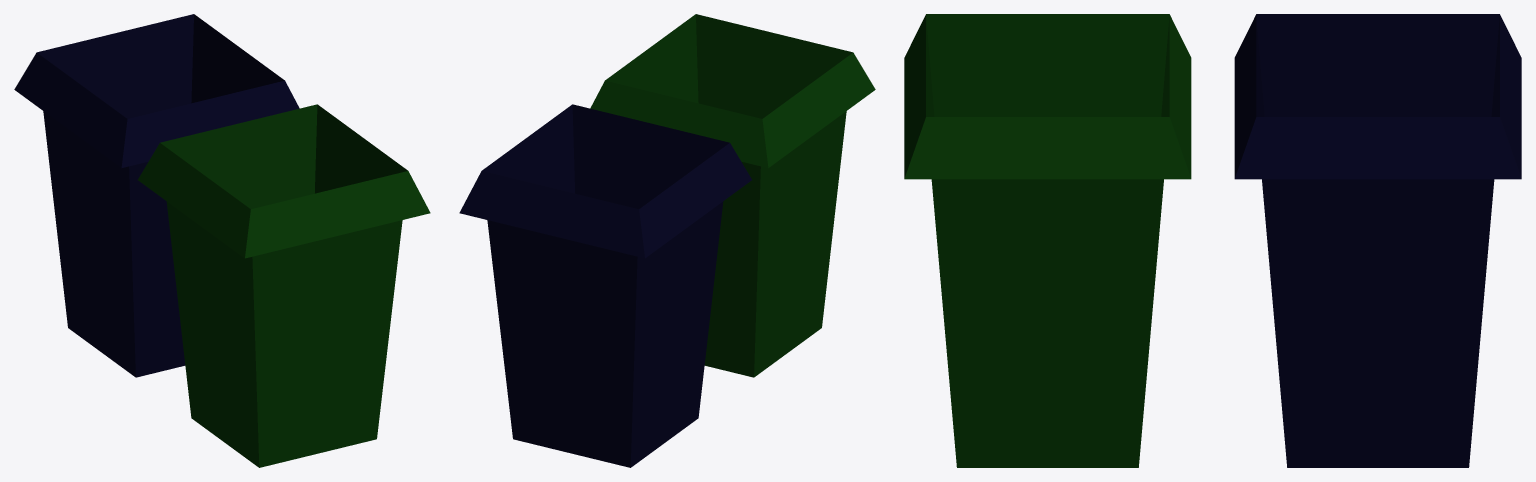
Rendered from Caixotes.fbx.
3 views of the same model, side by side, from view 1: azimuth 30°, elevation 25°; view 2: azimuth 150°, elevation 25°; view 3: azimuth 270°, elevation 25° (orthographic). The views are drawn at different scales.
Parts seen in each view (by area): view 1: Cube.193, Cube.194; view 2: Cube.194, Cube.193; view 3: Cube.193, Cube.194.
Boxes of the visible parts, x1,y1,x2,y2 form: Cube.193: [138, 104, 430, 467]; Cube.194: [14, 14, 299, 377]; Cube.194: [459, 104, 751, 467]; Cube.193: [590, 14, 875, 377]; Cube.193: [904, 14, 1191, 467]; Cube.194: [1234, 14, 1521, 467].
Size of the model in its own units: 28.54 by 39.92 by 61.36.
